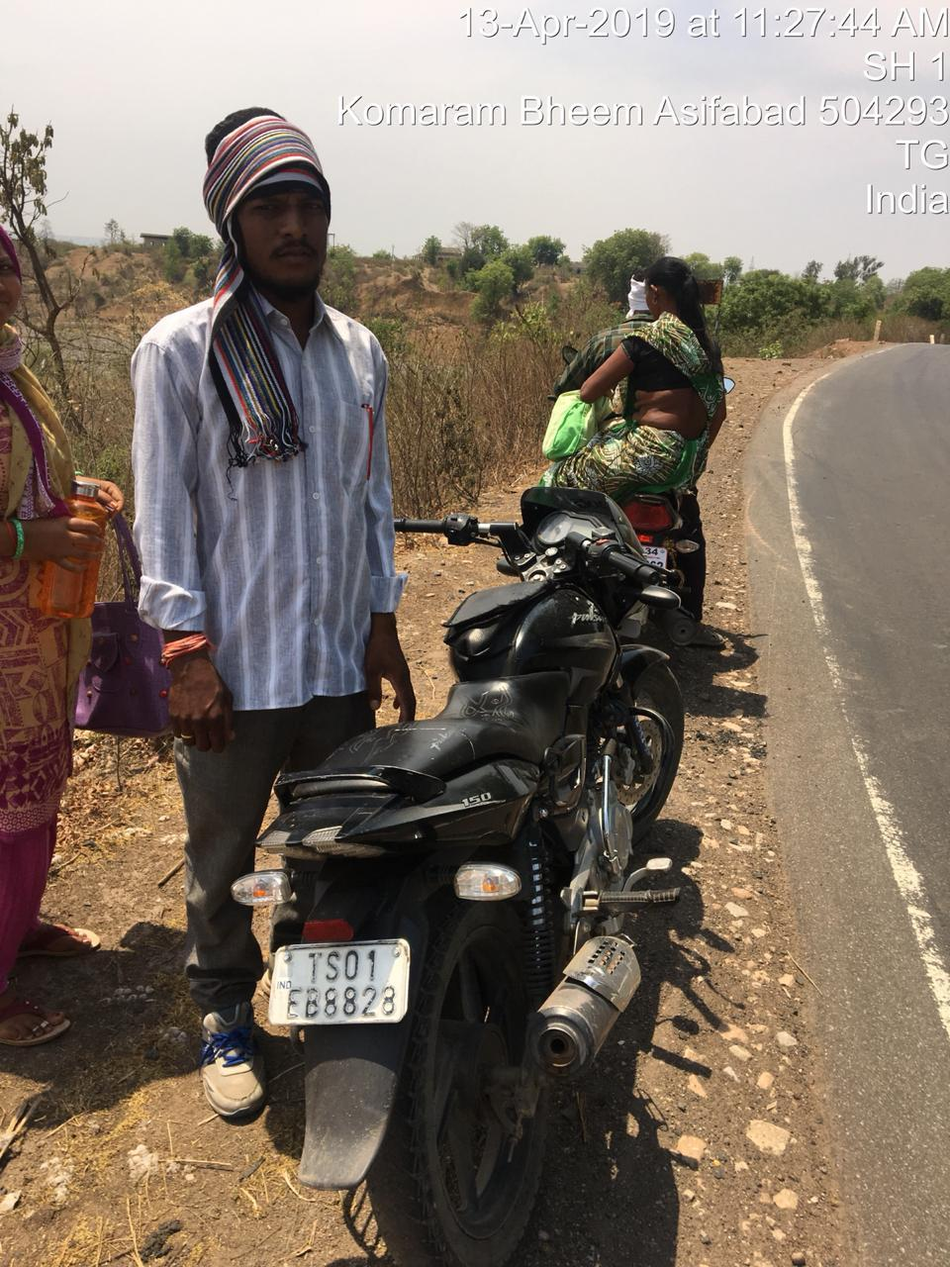plate: (253, 913, 444, 1058)
